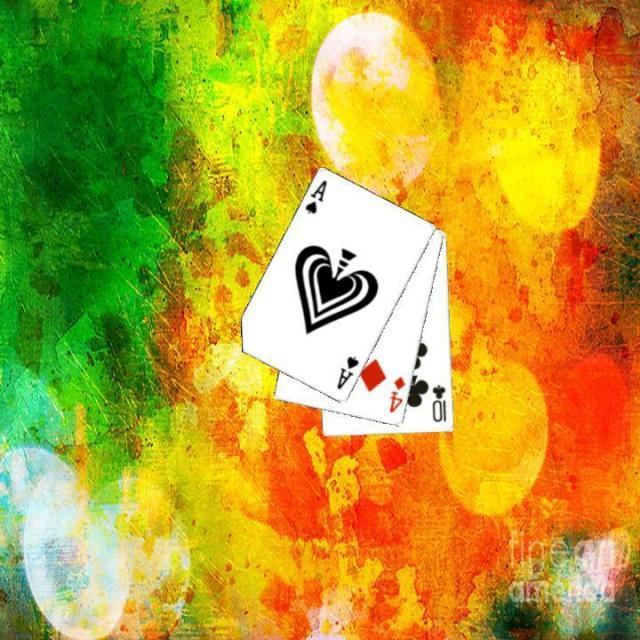10C: (428, 381, 448, 424)
4D: (386, 373, 408, 415)
AS: (301, 176, 329, 216), (333, 353, 361, 391)
